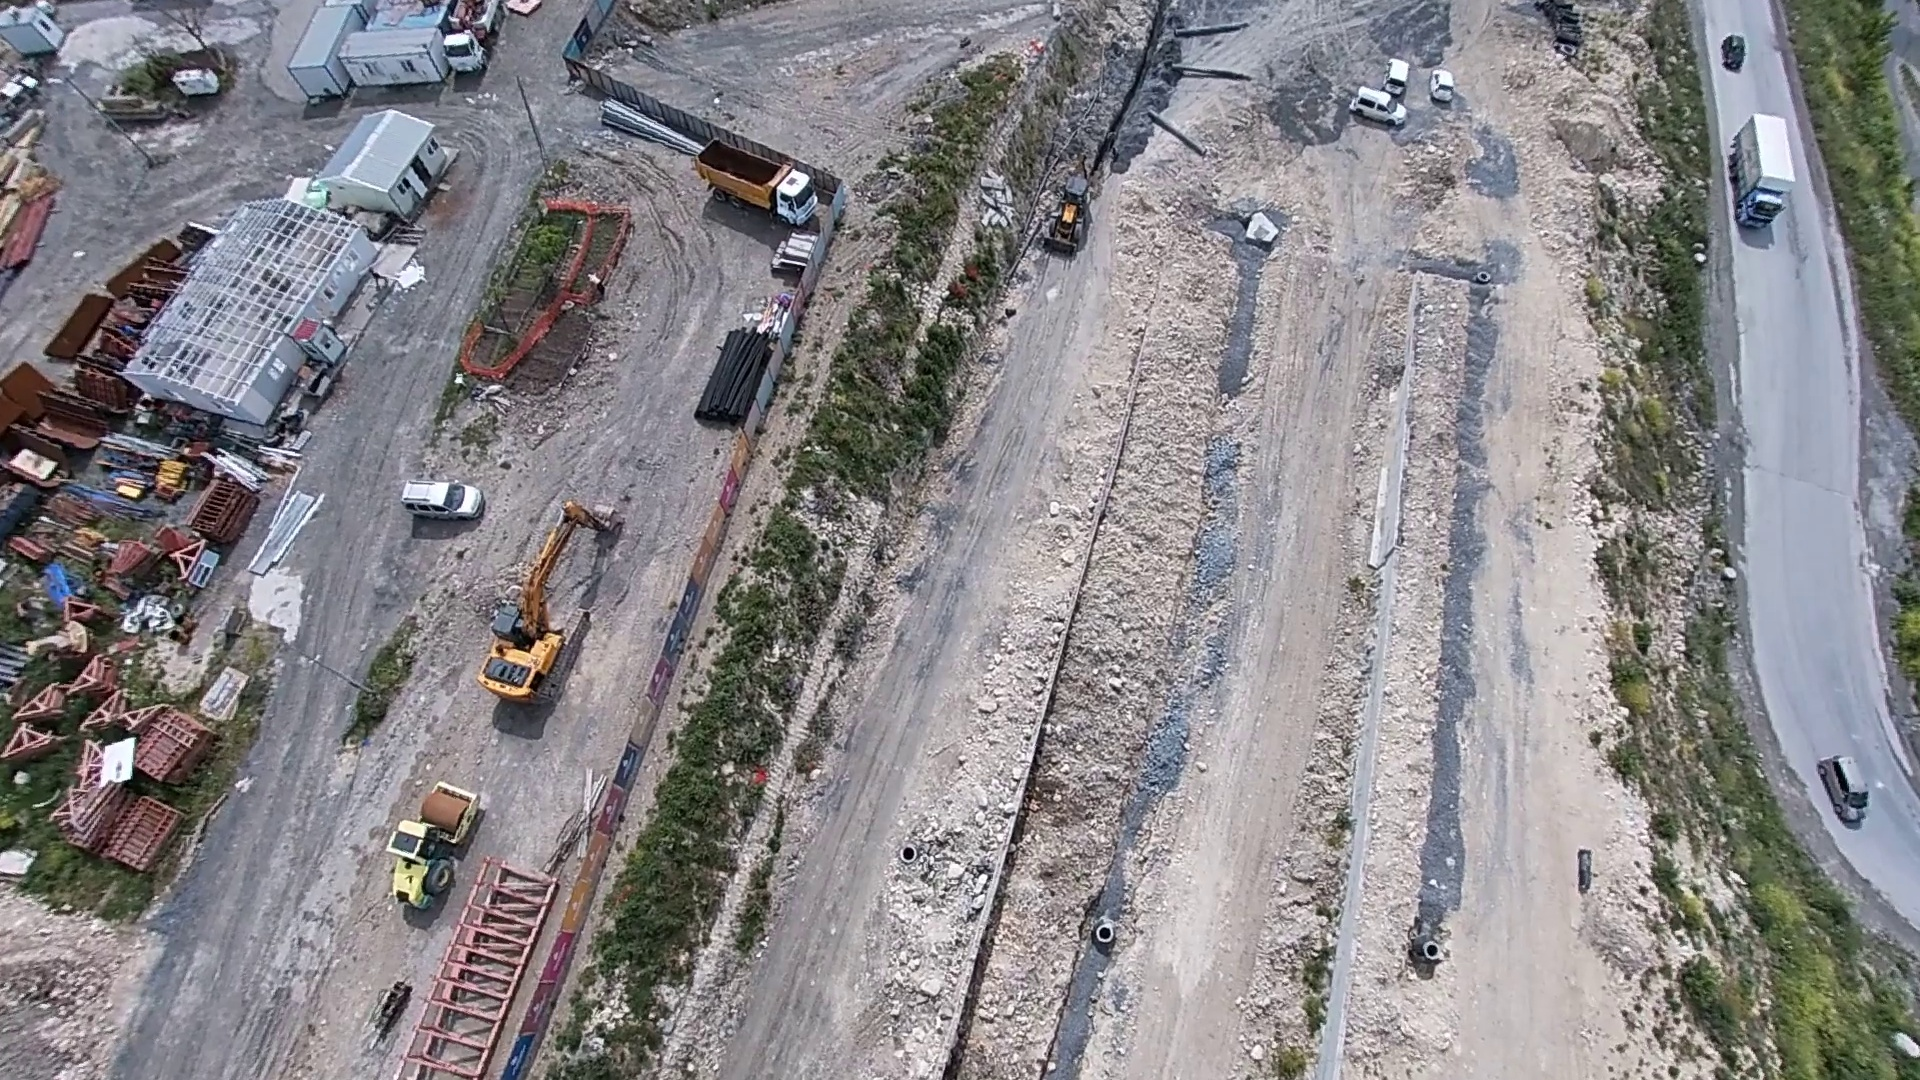arac: (465, 495, 637, 708), (380, 775, 496, 918), (686, 133, 822, 229), (1731, 103, 1796, 237), (1812, 744, 1874, 833), (1036, 167, 1100, 255), (433, 1, 506, 74), (398, 471, 489, 524), (1338, 80, 1407, 124), (1381, 44, 1422, 98), (1713, 32, 1753, 79), (1424, 65, 1464, 100)
